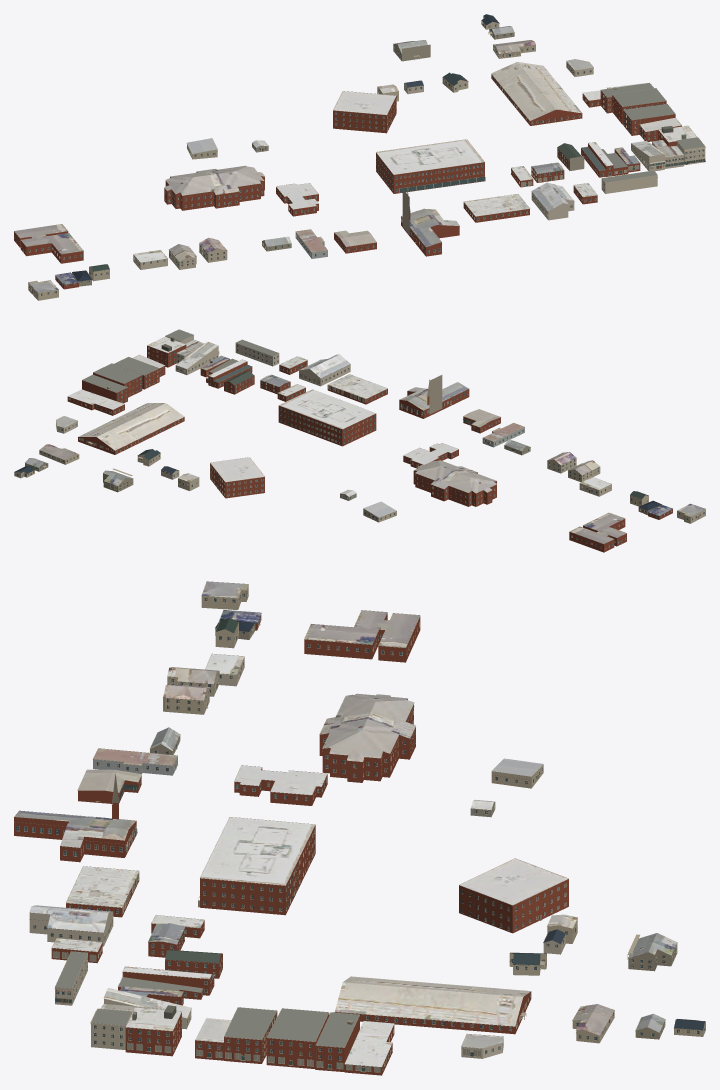
3 renders of one model, top to bottom at view 1: azimuth 30°, elevation 25°; view 2: azimuth 150°, elevation 25°; view 3: azimuth 270°, elevation 25°, orthographic. The views are drawn at different scales.
Parts seen in each view (by area): view 1: -1_-1_264946753_2, -1_-1_416028635_3, -1_-1_421471594_15, -1_-1_421471599_20; view 2: -1_-1_264946753_2, -1_-1_416028635_3, -1_-1_421471594_15, -1_-1_421471599_20; view 3: -1_-1_264946753_2, -1_-1_416028635_3, -1_-1_421471594_15, -1_-1_421471599_20, -1_-1_421471598_19.
Boxes of the visible parts, x1,y1,x2,y2 form: -1_-1_264946753_2: (14,16,705,296); -1_-1_416028635_3: (23,14,704,300); -1_-1_421471594_15: (133,61,705,269); -1_-1_421471599_20: (72,29,514,286); -1_-1_264946753_2: (15,329,705,552); -1_-1_416028635_3: (14,329,705,543); -1_-1_421471594_15: (56,335,611,496); -1_-1_421471599_20: (25,445,661,515); -1_-1_264946753_2: (14,581,704,1075); -1_-1_416028635_3: (55,585,705,1047); -1_-1_421471594_15: (29,657,565,1058); -1_-1_421471599_20: (150,623,677,1039); -1_-1_421471598_19: (93,756,177,775).
Bounding box in the file's own units: 538 × 39.83 × 317.
Materials: 20 (1 with a texture image).
